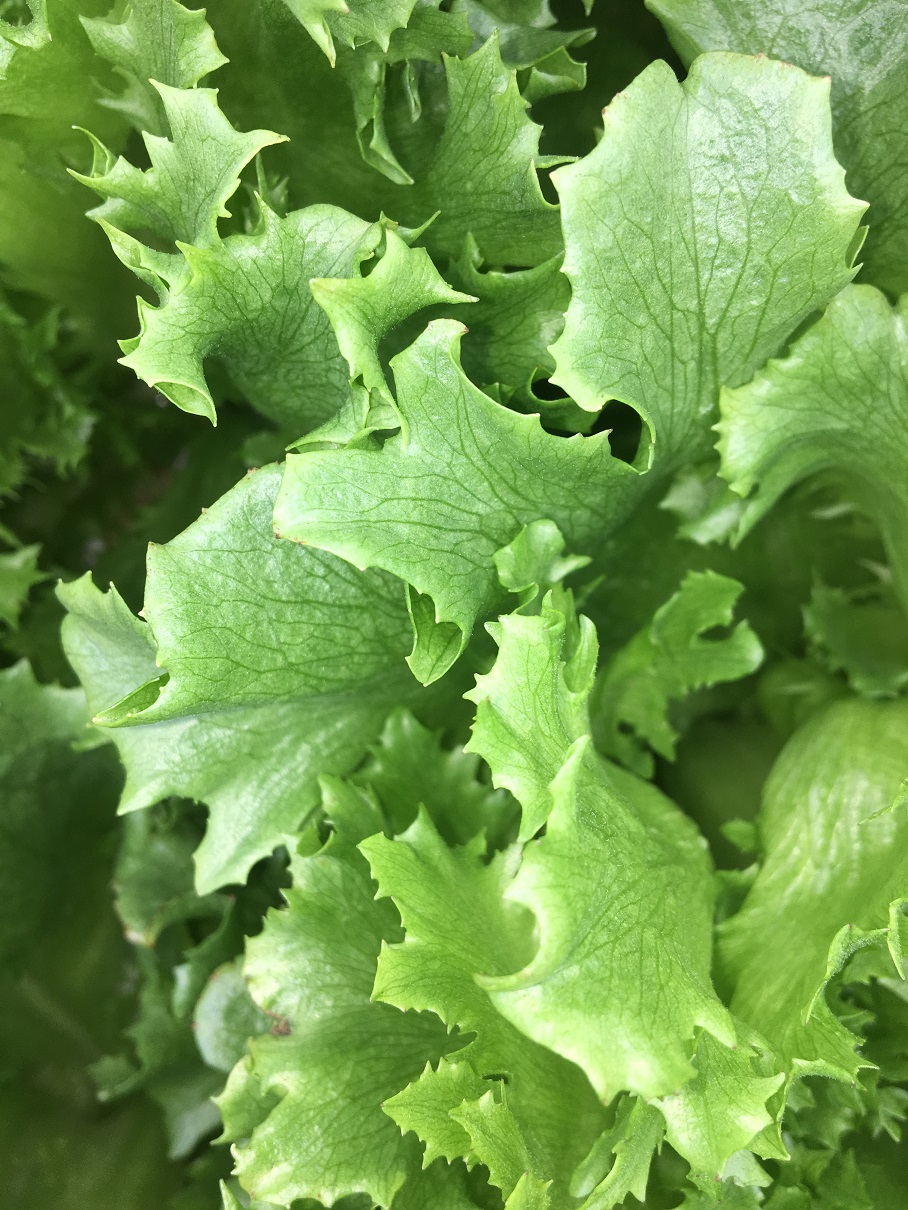tipburn: (247, 988, 305, 1050), (110, 901, 171, 949), (360, 203, 405, 252), (697, 1156, 740, 1202), (279, 521, 322, 567), (586, 1075, 626, 1119), (590, 92, 631, 132), (257, 512, 296, 554), (644, 1076, 680, 1118), (813, 56, 850, 93), (738, 39, 776, 75), (767, 49, 805, 84), (327, 1, 365, 28), (214, 882, 243, 916), (719, 1029, 748, 1060), (837, 908, 863, 942)
